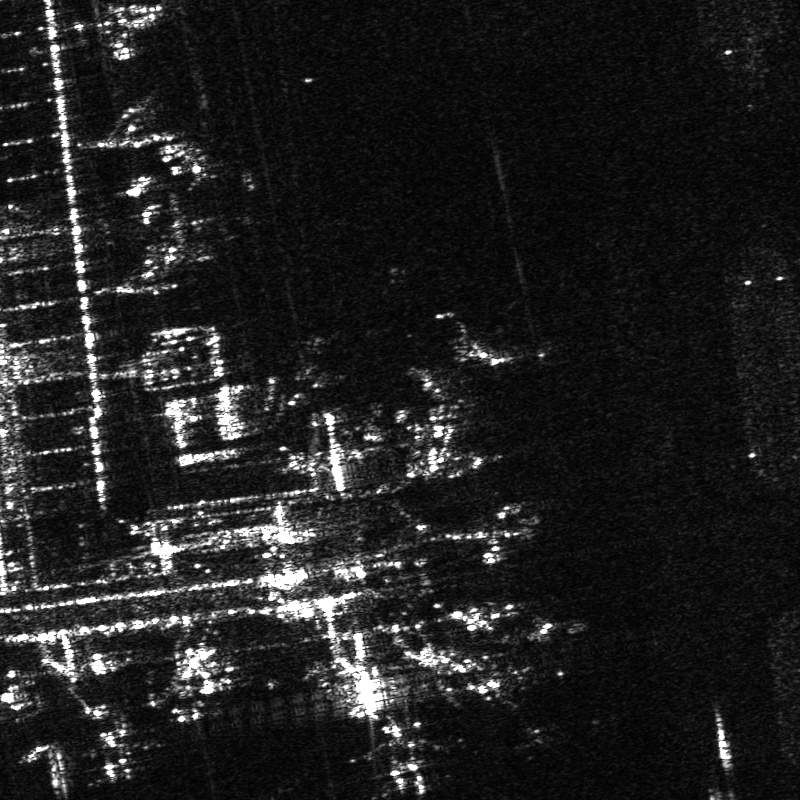Boeing737: (351, 713, 454, 799)
